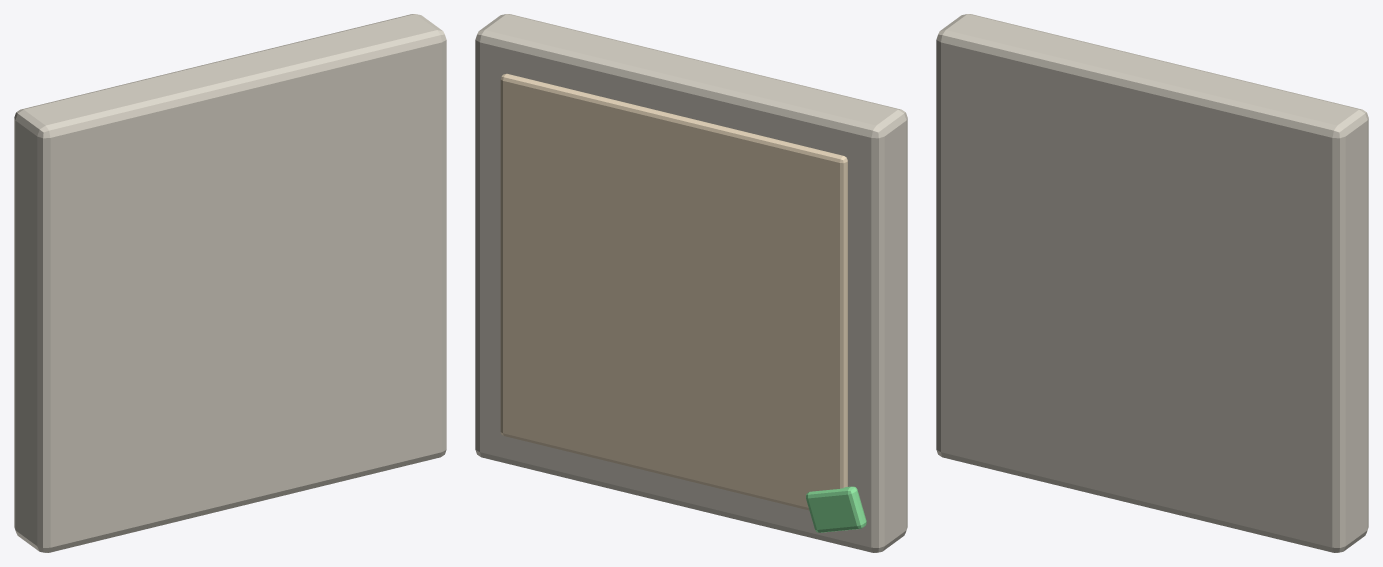
The model's file is Env_SanctumTile.fbx.
The picture shows the model from 3 angles, left to right: view 1: azimuth 30°, elevation 25°; view 2: azimuth 150°, elevation 25°; view 3: azimuth 330°, elevation 25°; orthographic projection.
Visible parts, largest first — view 1: StoneBase; view 2: InlayTrim, StoneBase, MossTuftA; view 3: StoneBase.
Part boxes in pixels (x1=…): StoneBase: x1=14, y1=14, x2=446, y2=552; InlayTrim: x1=500, y1=73, x2=847, y2=510; StoneBase: x1=475, y1=14, x2=907, y2=552; MossTuftA: x1=806, y1=486, x2=866, y2=532; StoneBase: x1=936, y1=14, x2=1368, y2=552.
Size of the model in its own units: 1.94 by 1.94 by 0.32.
